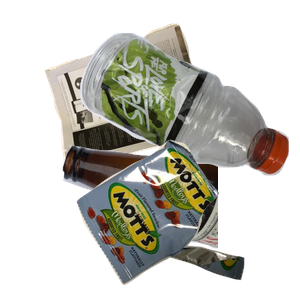glass: (60, 142, 300, 300)
paper: (42, 21, 249, 181)
plastic: (77, 30, 300, 198)
trash: (74, 137, 300, 300)
